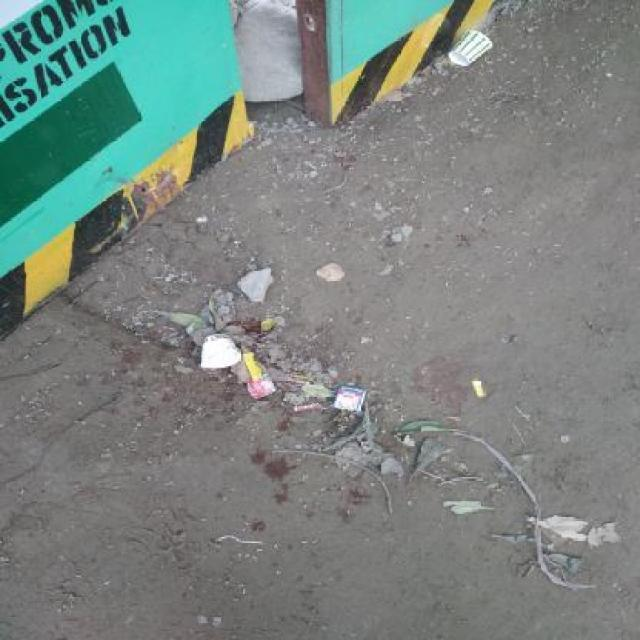garbage: (163, 285, 460, 544), (492, 471, 608, 612), (429, 3, 506, 88)
